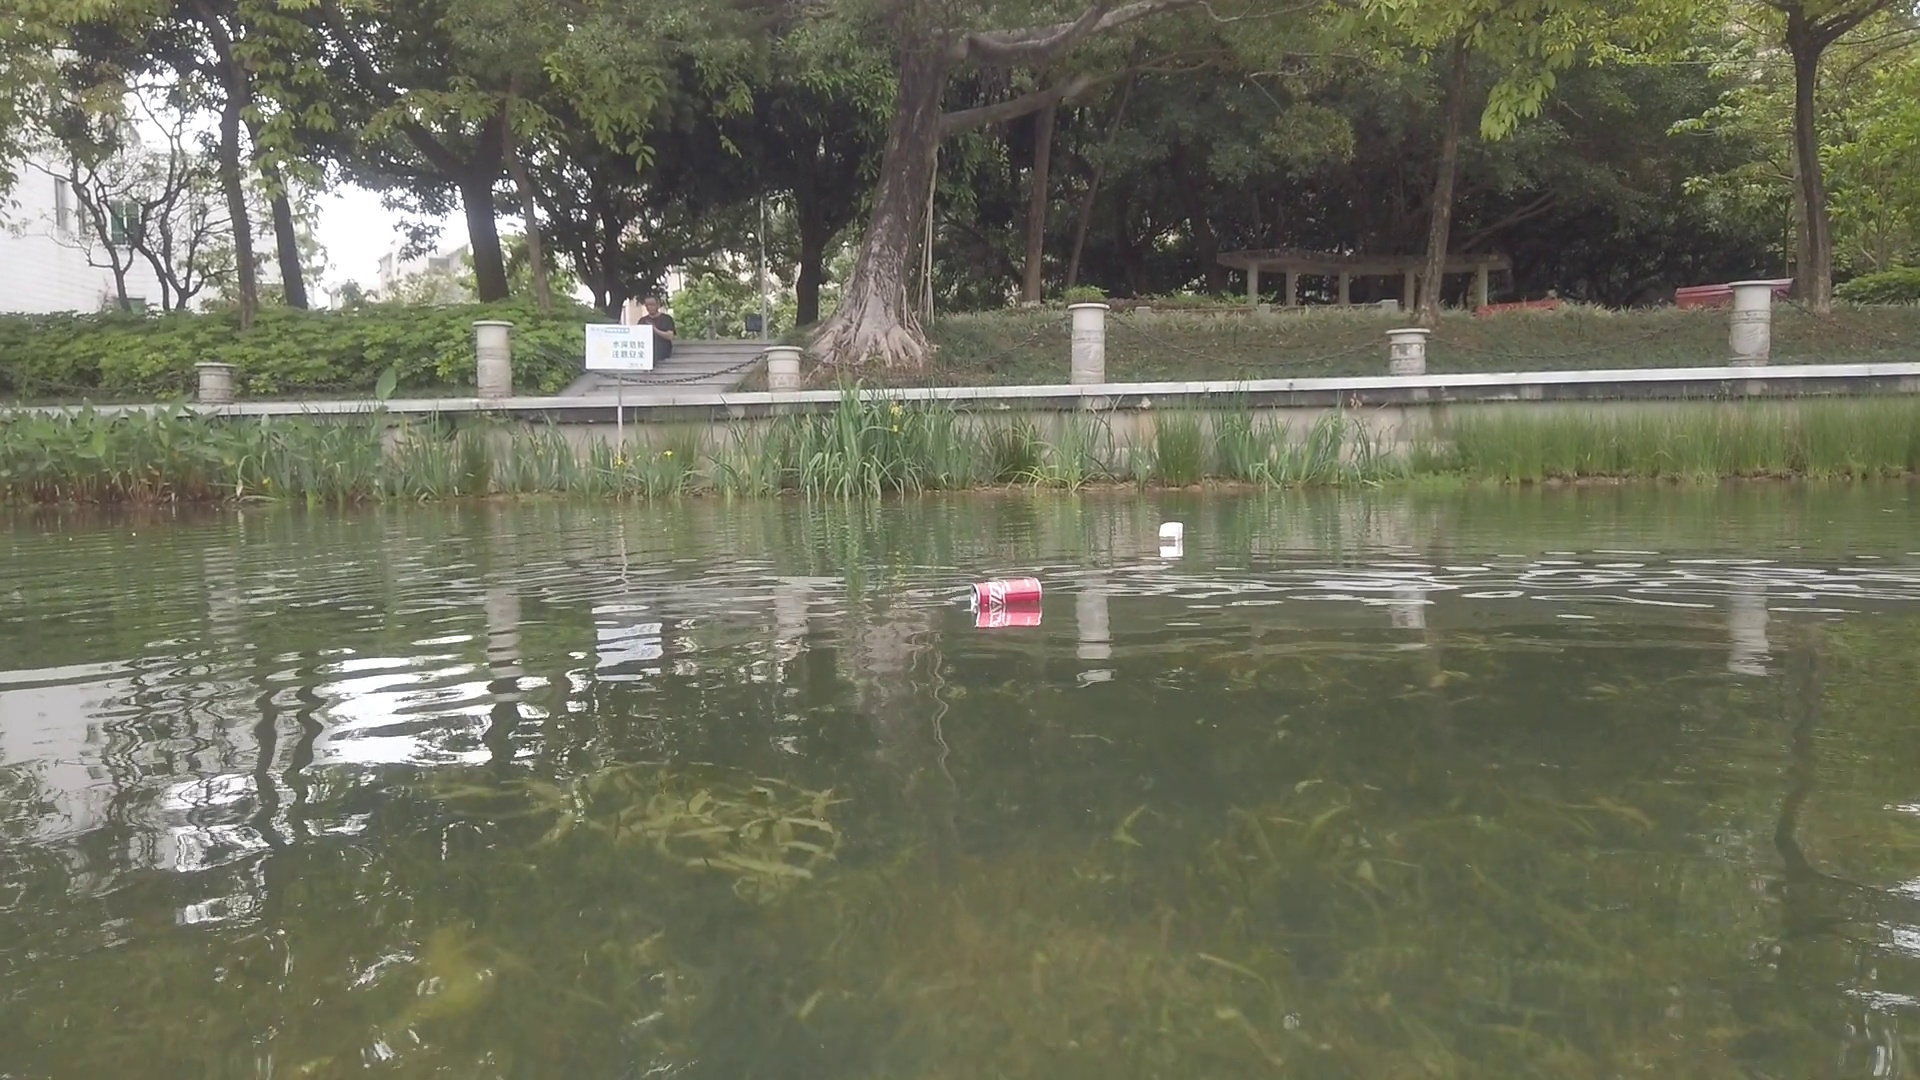bottle: (971, 580, 1043, 605)
carton: (1159, 522, 1184, 542)
